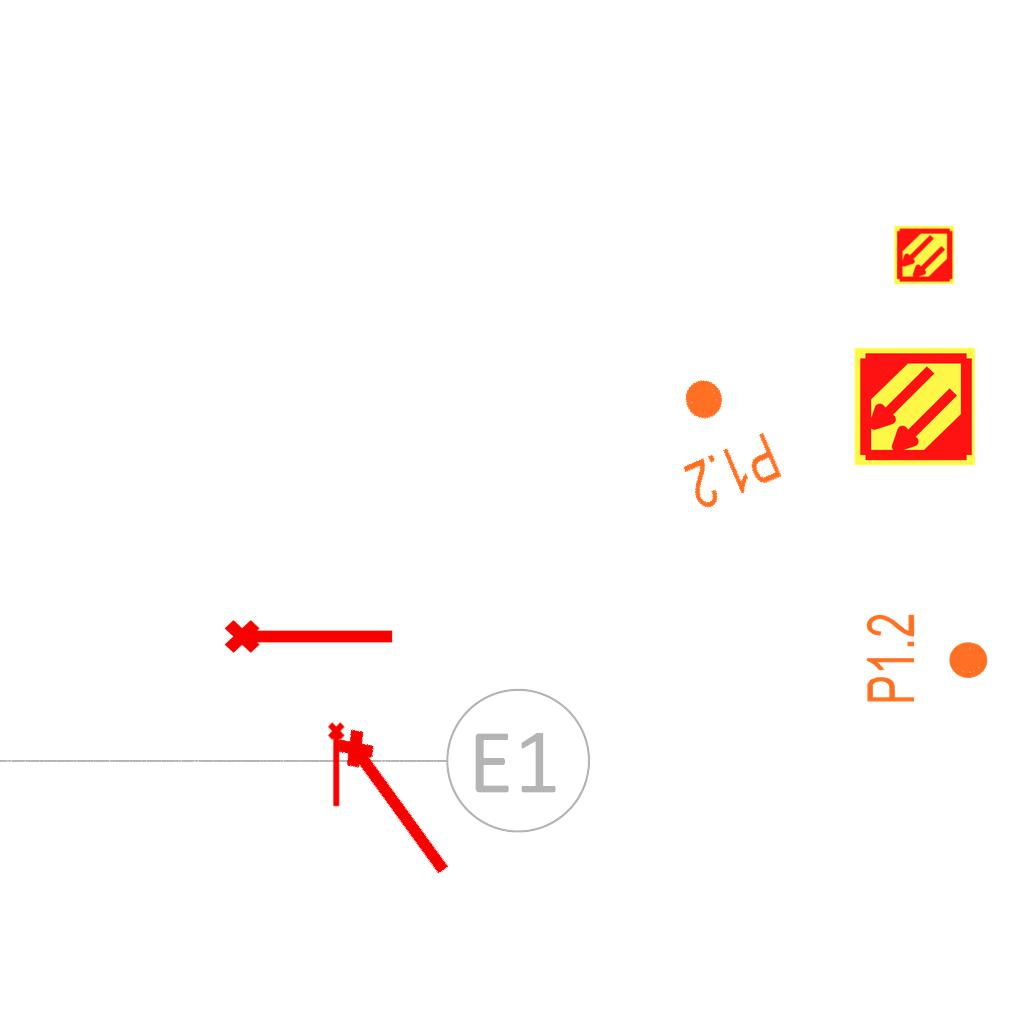ASR_Ansaugoeffnung: (326, 717, 468, 887), (222, 611, 398, 657), (326, 721, 349, 809)
ASR_Ansaugrauchmelder: (852, 344, 977, 469), (893, 224, 955, 286)
Downlight_LED_Einbauleuchten_Flur: (650, 360, 787, 516), (863, 612, 991, 705)
